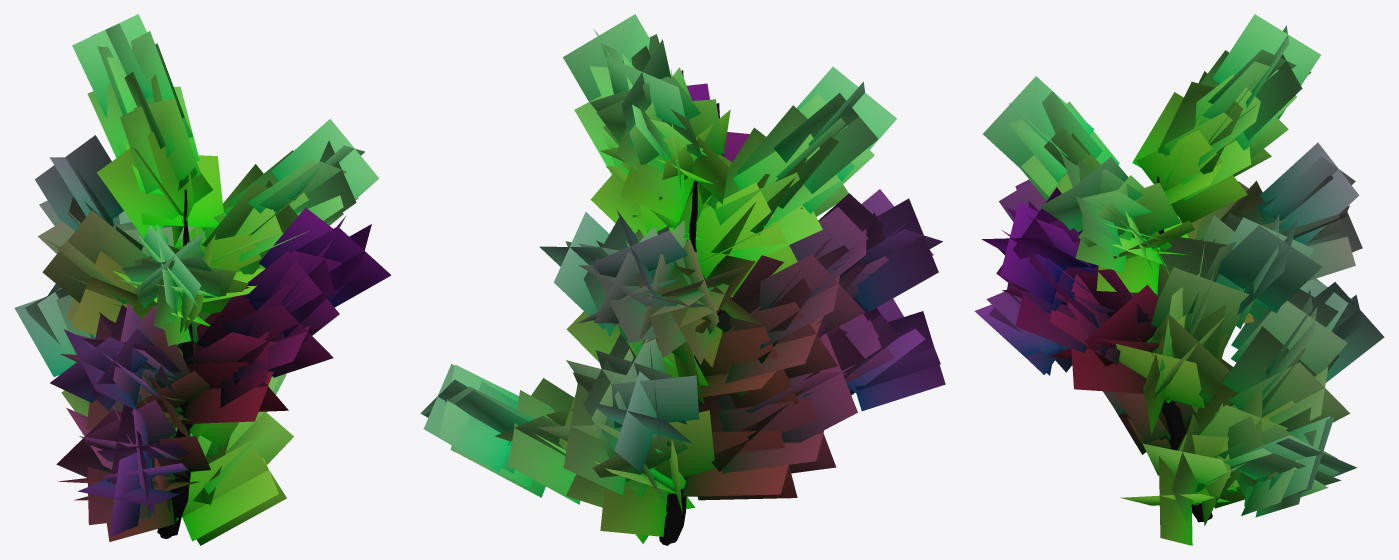
Rendered from M_P6_Tree_14.fbx.
3 views of the same model, side by side, from view 1: azimuth 30°, elevation 25°; view 2: azimuth 150°, elevation 25°; view 3: azimuth 270°, elevation 25° (orthographic). The views are drawn at different scales.
Visible parts, largest first — view 1: Tree_14; view 2: Tree_14; view 3: Tree_14.
Part boxes in pixels (bbox=[...]): Tree_14: bbox=[14, 14, 391, 545]; Tree_14: bbox=[420, 14, 945, 545]; Tree_14: bbox=[974, 14, 1384, 545].
Bounding box in the file's own units: 801 × 1072 × 785.
